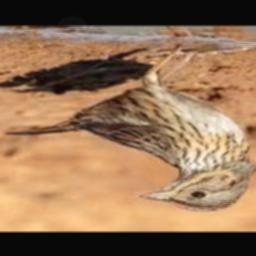Sparrow: (4, 46, 253, 212)
